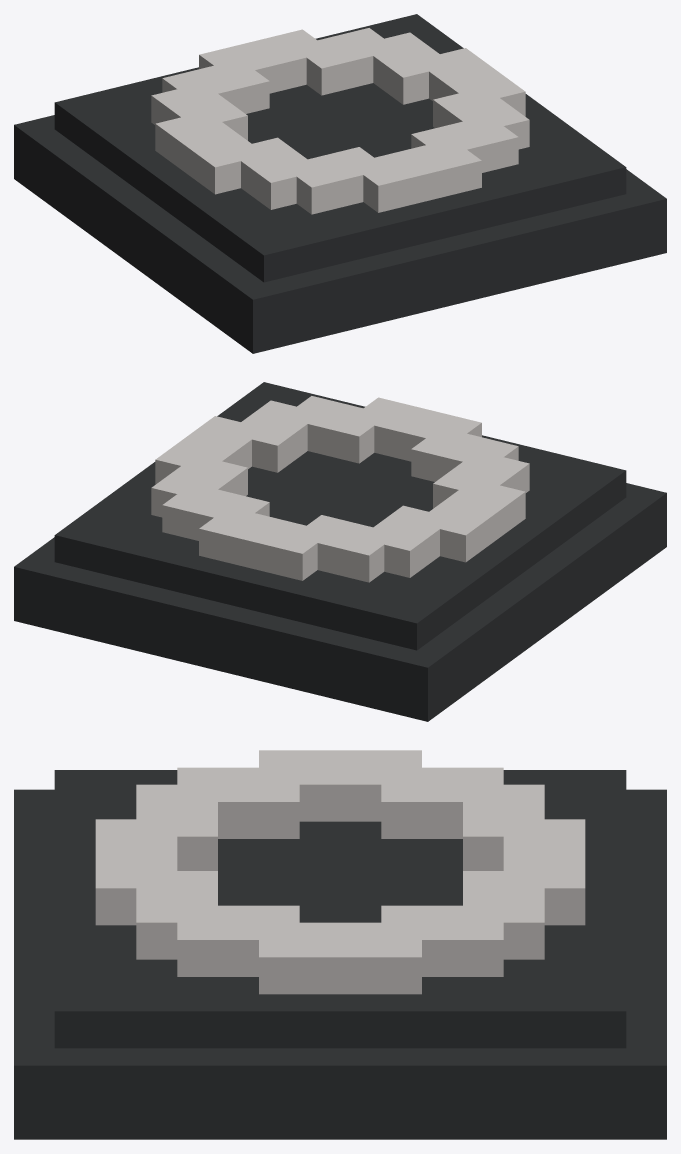
Rendered from o-v2-black-white.gltf.
3 views of the same model, one above another, from view 1: azimuth 30°, elevation 25°; view 2: azimuth 150°, elevation 25°; view 3: azimuth 270°, elevation 25° (orthographic). The views are drawn at different scales.
Parts seen in each view (by area): view 1: Untitled; view 2: Untitled; view 3: Untitled.
Boxes of the visible parts, x1,y1,x2,y2 form: Untitled: (14, 14, 666, 353); Untitled: (14, 382, 666, 721); Untitled: (14, 750, 666, 1139).
Size of the model in its own units: 1.6 by 0.4 by 1.6.
1 material, 1 textured.
